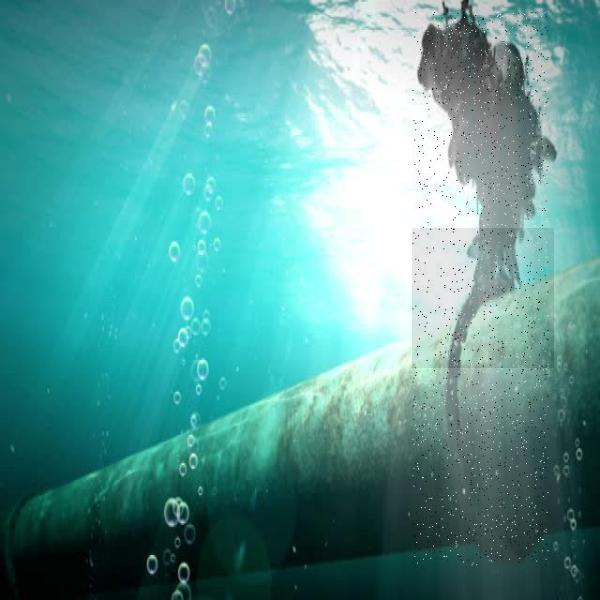water: (412, 228, 554, 368)
